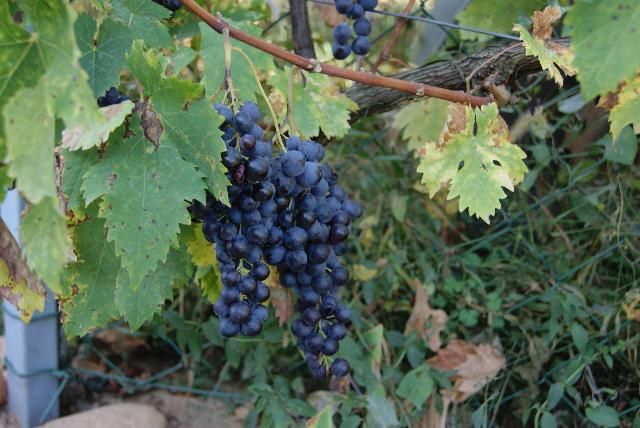grapes: (271, 140, 361, 379), (191, 101, 275, 338)
